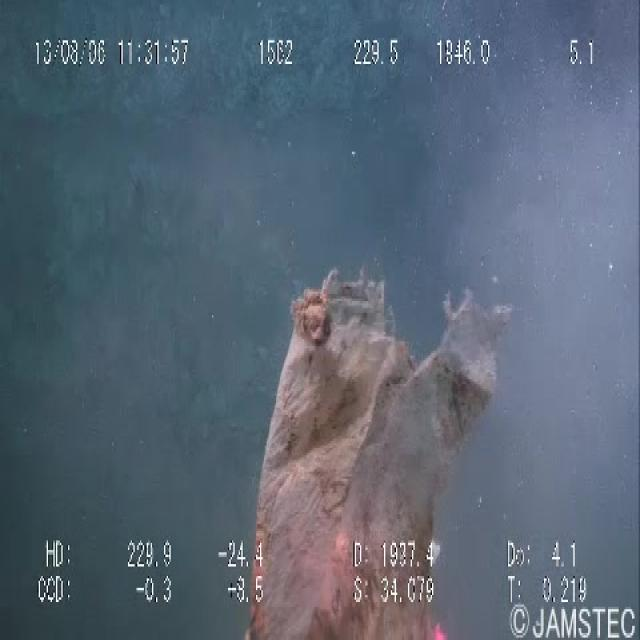plastic: (235, 228, 524, 638)
